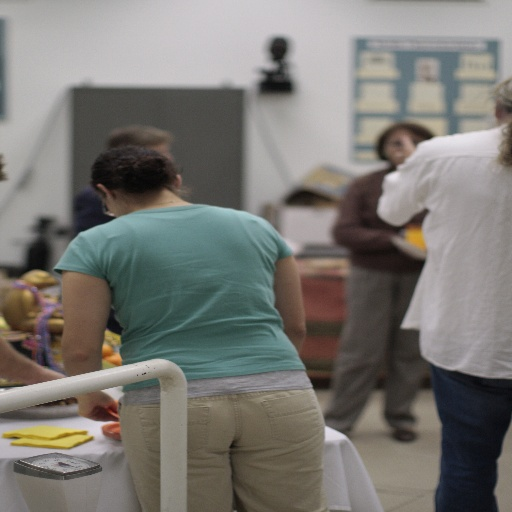hand: (77, 388, 118, 423), (33, 376, 80, 406), (389, 133, 413, 165)
